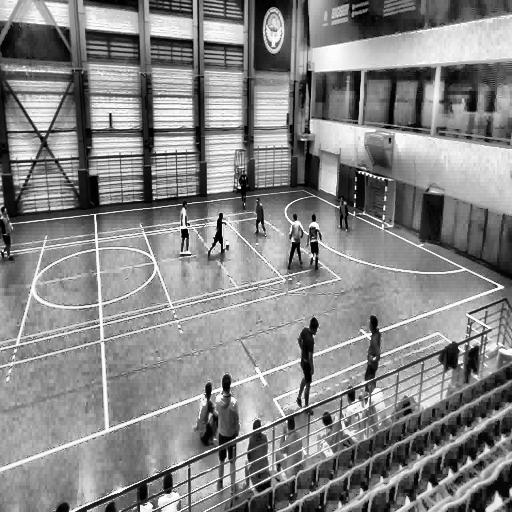ball: (224, 240, 230, 249)
player: (214, 374, 239, 493), (297, 320, 316, 408), (286, 212, 305, 269), (208, 211, 228, 257), (0, 204, 16, 261), (367, 316, 381, 380), (307, 214, 321, 272), (179, 200, 191, 256), (255, 197, 266, 236), (238, 171, 248, 208), (338, 196, 348, 232)
